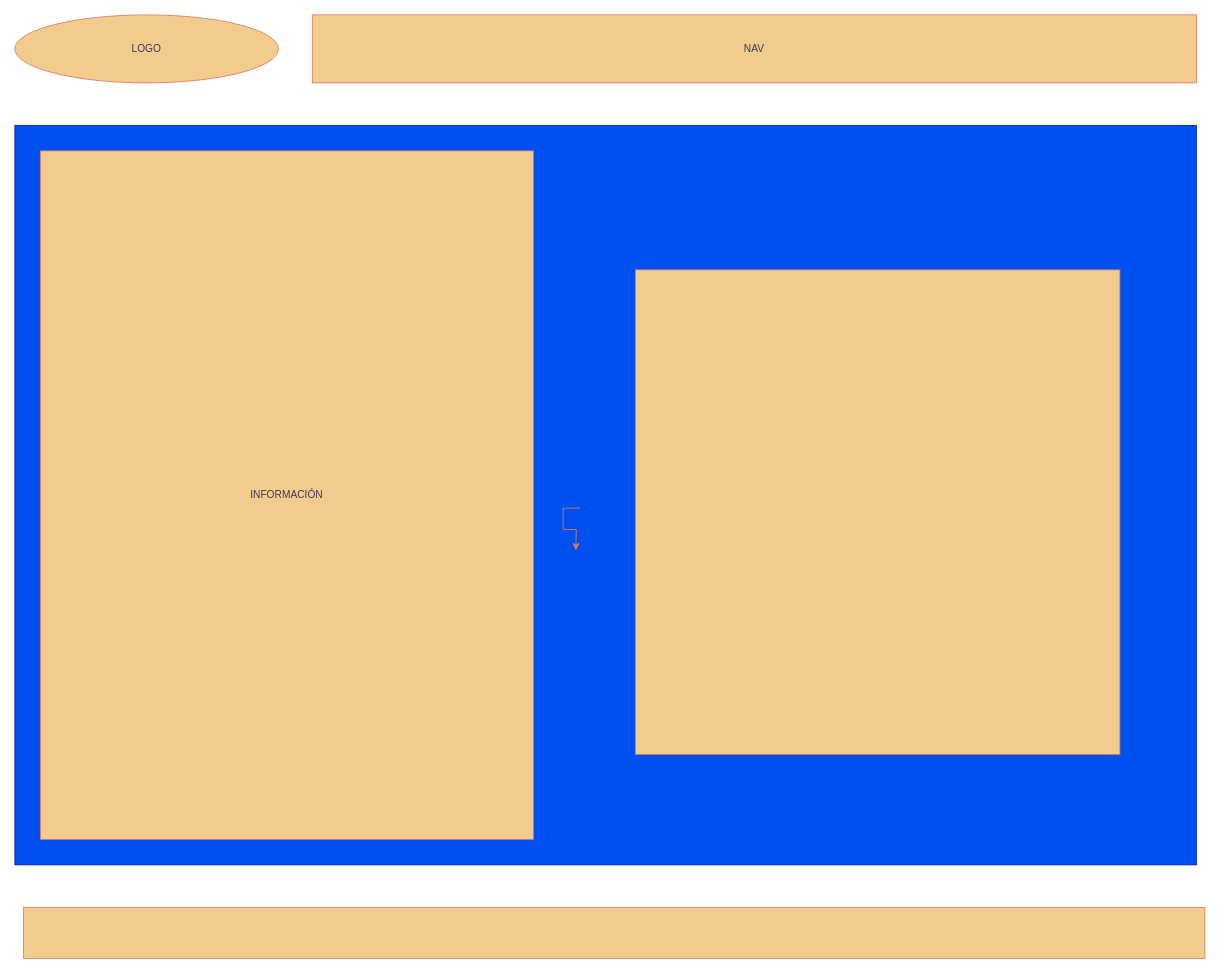
Some shapes in this 1220 by 973 pixel diagram are drawn without their labels. Here are the shapes that lost their labels. From the top down, the centre of each, then its label:
point (877, 511): PROYECTOS
point (614, 932): REDES SOCIALES
